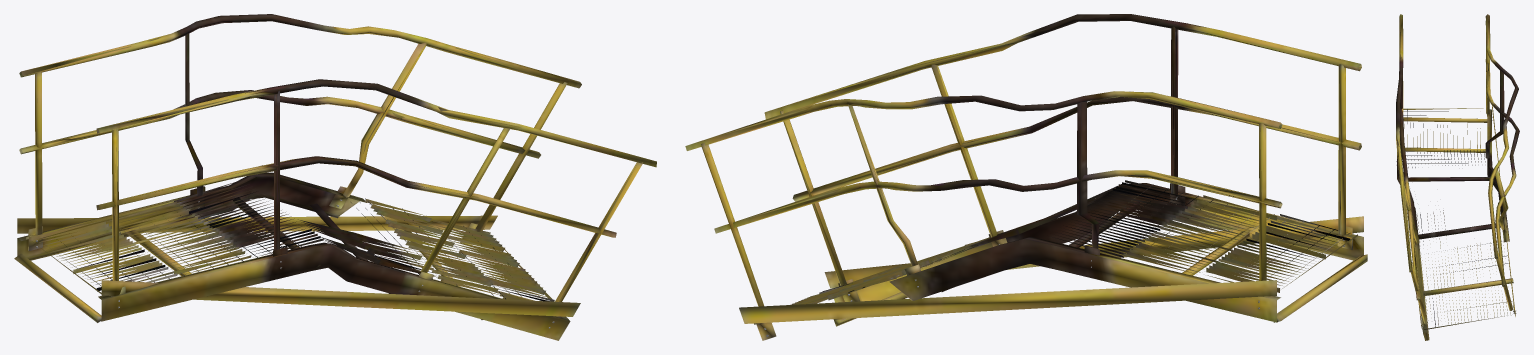
File: industrial_walkway_torn_lod2.glb
3 views of the same model, side by side, from view 1: azimuth 30°, elevation 25°; view 2: azimuth 150°, elevation 25°; view 3: azimuth 270°, elevation 25° (orthographic). The views are drawn at different scales.
Visible parts, largest first — view 1: industrial_walkway_torn_paint; view 2: industrial_walkway_torn_paint; view 3: industrial_walkway_torn_paint.
Part boxes in pixels (x1=…): industrial_walkway_torn_paint: x1=14, y1=14, x2=656, y2=340; industrial_walkway_torn_paint: x1=685, y1=14, x2=1367, y2=340; industrial_walkway_torn_paint: x1=1396, y1=14, x2=1519, y2=340.
Size of the model in its own units: 3.9 by 2.26 by 1.3.
2 materials, 1 textured.
